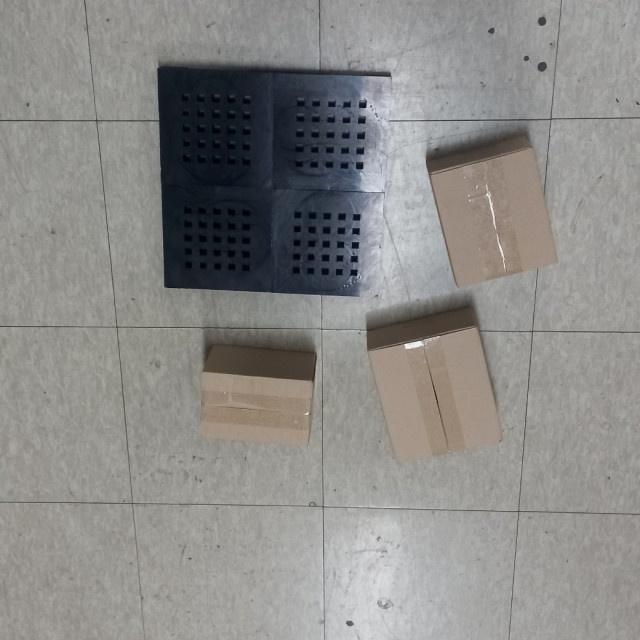box: (360, 301, 511, 470), (419, 130, 565, 296), (192, 339, 323, 453)
pallet: (147, 59, 398, 304)
